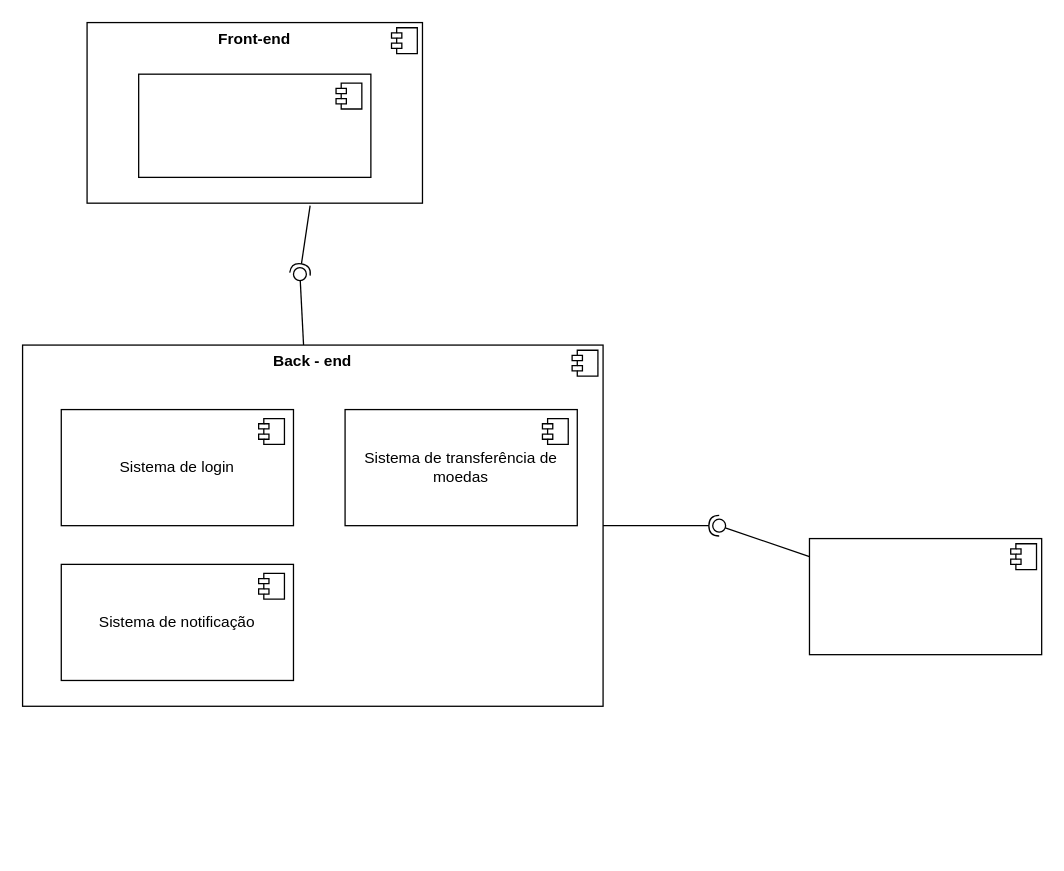
The diagram is 1064 pixels wide and 871 high, and some of its shapes have lost their labels. The centre of each missing label's shape, as x and y in pixels:
"Banco de Dados" goes at pixel 925 596.
"Interface do usuário" goes at pixel 254 125.
